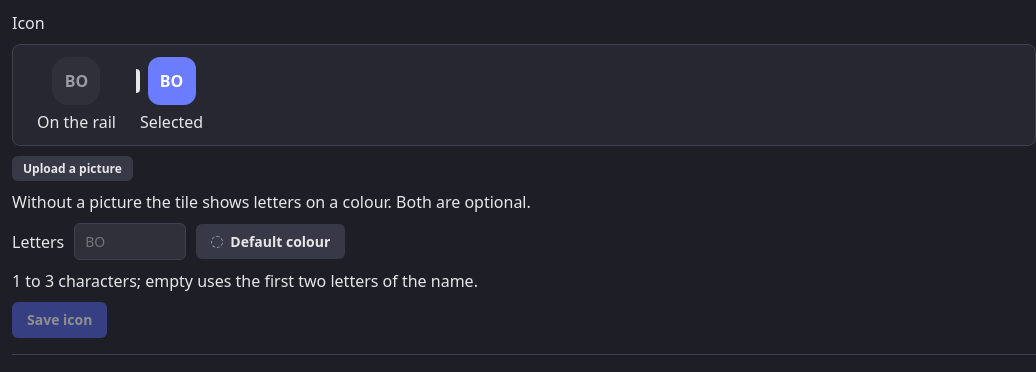
the letters › count a skin-toned emoji or a flag as one character
Type "👍🏽🇬🇧A" into the field labelled "Letters" at x=130, y=242, box [74, 223, 186, 260]
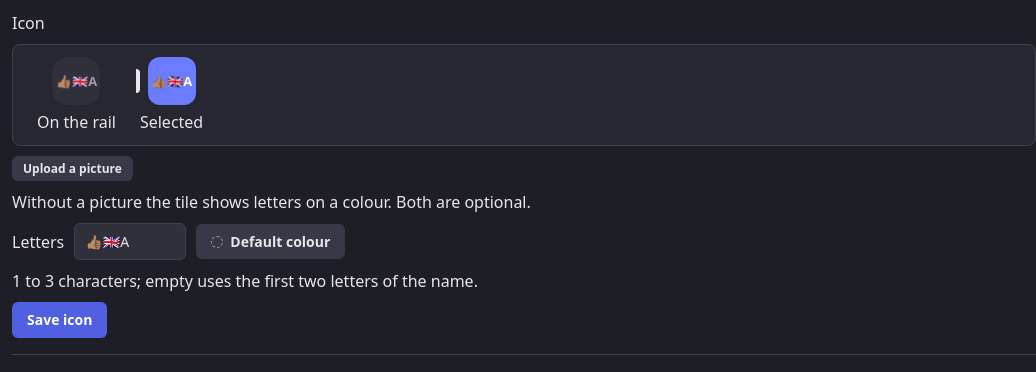
Check: the button "Save icon" is enabled, box [12, 302, 107, 338]
